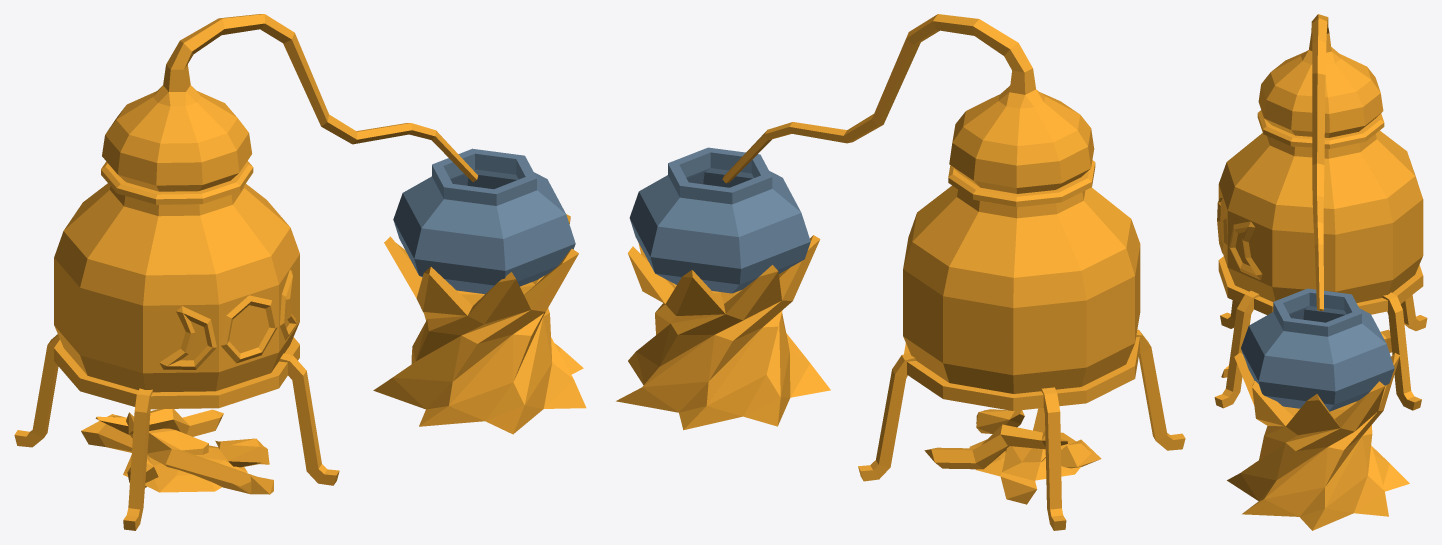
Rendered from SM_Alembic_Metal_Alchemy.fbx.
3 renders of one model, left to right at view 1: azimuth 30°, elevation 25°; view 2: azimuth 150°, elevation 25°; view 3: azimuth 270°, elevation 25°, orthographic. The views are drawn at different scales.
Parts seen in each view (by area): view 1: alembic-metal-alchemy; view 2: alembic-metal-alchemy; view 3: alembic-metal-alchemy.
Part boxes in pixels (x1=…): alembic-metal-alchemy: x1=14, y1=14, x2=586, y2=530; alembic-metal-alchemy: x1=616, y1=14, x2=1185, y2=530; alembic-metal-alchemy: x1=1214, y1=14, x2=1427, y2=530.
Bounding box in the file's own units: 0.7505 × 0.6161 × 0.3213.
